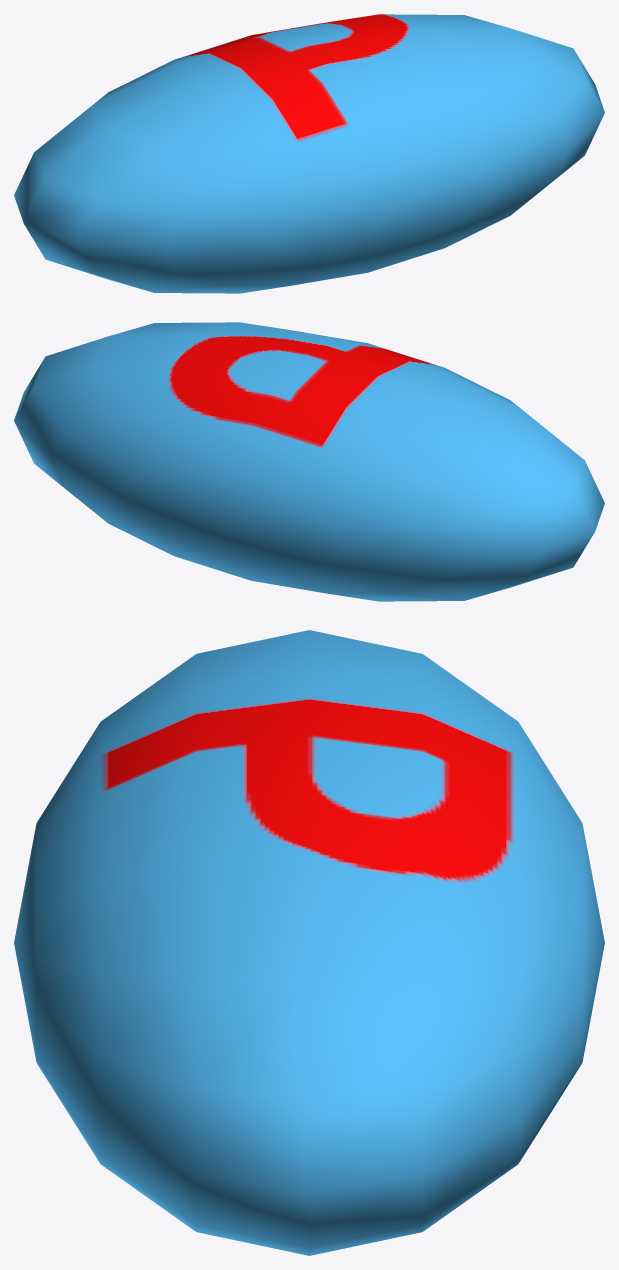
The model's file is powerupParts.FBX.
The picture shows the model from 3 angles, top to bottom: view 1: azimuth 30°, elevation 25°; view 2: azimuth 150°, elevation 25°; view 3: azimuth 270°, elevation 25°; orthographic projection. The views are drawn at different scales.
Parts seen in each view (by area): view 1: Sphere001; view 2: Sphere001; view 3: Sphere001.
Part boxes in pixels (bbox=[...]): Sphere001: bbox=[14, 14, 604, 293]; Sphere001: bbox=[14, 322, 604, 601]; Sphere001: bbox=[14, 630, 604, 1255].
Bounding box in the file's own units: 0.88 × 0.3168 × 0.44.
Materials: 1 (1 with a texture image).
